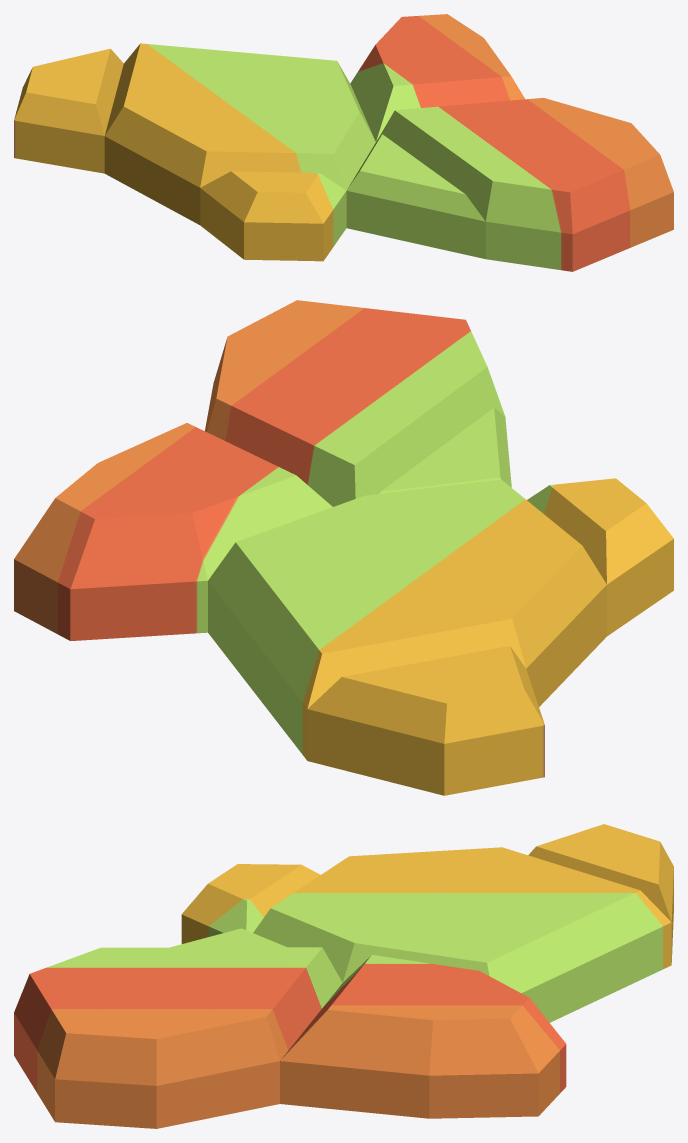
The model's file is rock_13.fbx.
3 views of the same model, one above another, from view 1: azimuth 30°, elevation 25°; view 2: azimuth 150°, elevation 25°; view 3: azimuth 270°, elevation 25° (orthographic). The views are drawn at different scales.
Parts seen in each view (by area): view 1: rock_13; view 2: rock_13; view 3: rock_13.
Boxes of the visible parts, box(x1,y1,x2,y2) form: rock_13: box(14, 14, 673, 271); rock_13: box(14, 300, 673, 795); rock_13: box(14, 824, 673, 1128).
Size of the model in its own units: 186 by 31.56 by 214.
